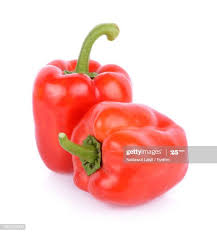bell pepper: (27, 20, 134, 174), (61, 92, 202, 205)
